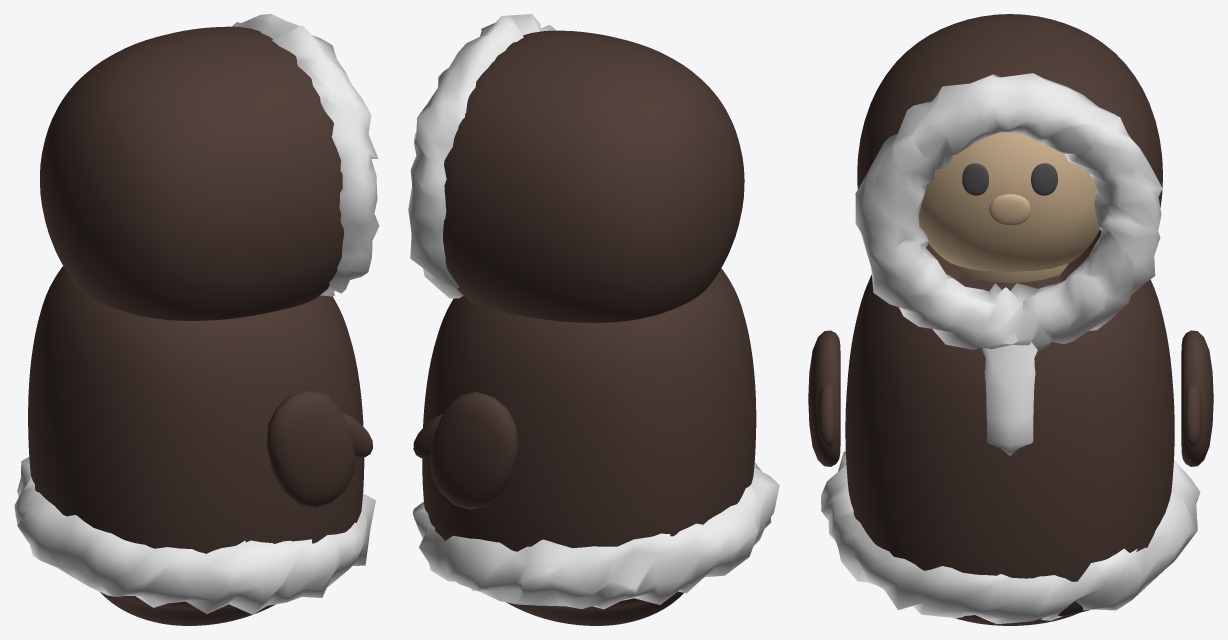
Rendered from eskimo.fbx.
3 renders of one model, left to right at view 1: azimuth 30°, elevation 25°; view 2: azimuth 150°, elevation 25°; view 3: azimuth 270°, elevation 25°, orthographic. The views are drawn at different scales.
Parts seen in each view (by area): view 1: Cube.001, Torus.001; view 2: Cube.001, Torus.001; view 3: Cube.001, Torus.001, Cube.009, Cube.007.
Part boxes in pixels (x1=…): Cube.001: x1=28, y1=26, x2=372, y2=625; Torus.001: x1=14, y1=14, x2=379, y2=614; Cube.001: x1=413, y1=30, x2=756, y2=625; Torus.001: x1=408, y1=14, x2=779, y2=609; Cube.001: x1=808, y1=14, x2=1213, y2=625; Torus.001: x1=821, y1=73, x2=1200, y2=624; Cube.009: x1=919, y1=132, x2=1099, y2=282; Cube.007: x1=962, y1=163, x2=1057, y2=195.
Bounding box in the file's own units: 205 × 348 × 222.
